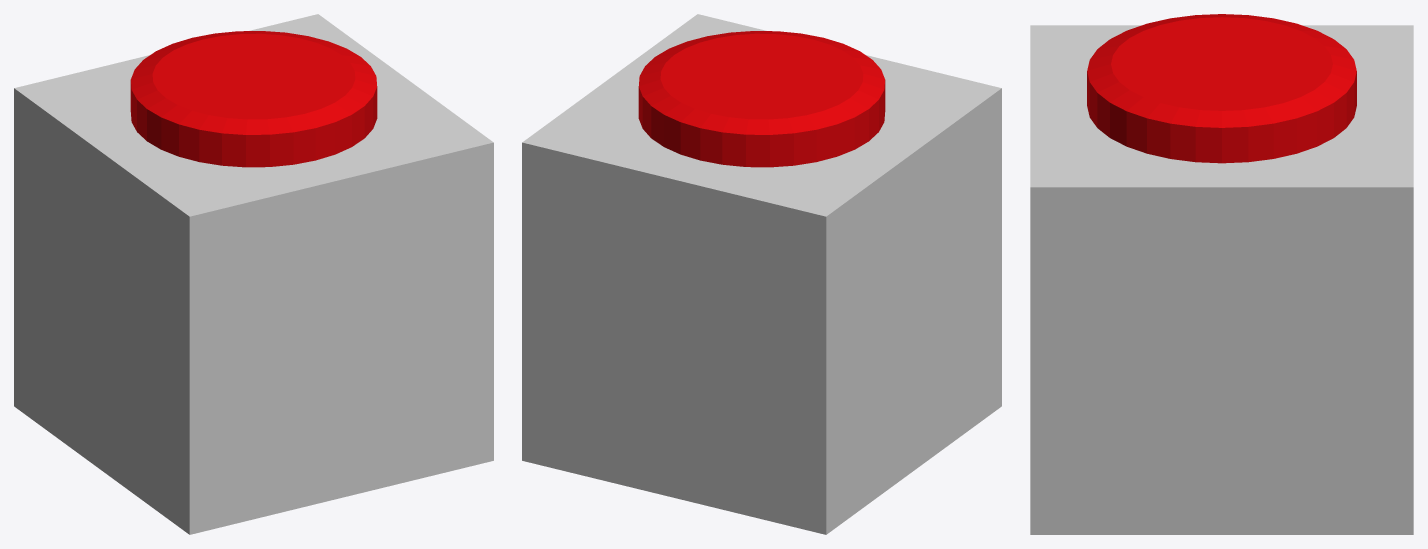
File: buttonup.fbx
3 views of the same model, side by side, from view 1: azimuth 30°, elevation 25°; view 2: azimuth 150°, elevation 25°; view 3: azimuth 270°, elevation 25° (orthographic). The views are drawn at different scales.
Visible parts, largest first — view 1: Cylinder; view 2: Cylinder; view 3: Cylinder.
Part boxes in pixels (x1,y1,x2,y2): Cylinder: (14,14,493,534); Cylinder: (522,14,1001,534); Cylinder: (1030,14,1413,534).
Bounding box in the file's own units: 200 × 224 × 200.
